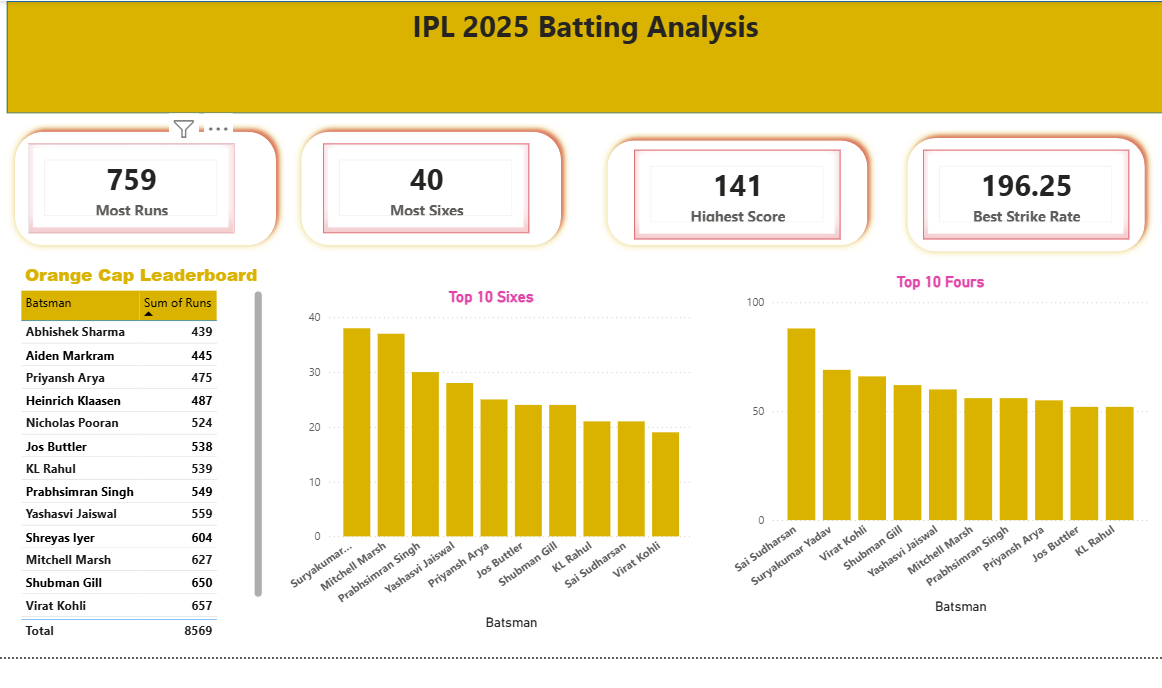

This screenshot's page, from the dashboard's own definition file:
{"tool":"powerbi","page":{"name":"Batting","canvas":[1280,720],"ordinal":1},"visuals":[{"type":"shape","box":[9.6,0,1270.7,123.5],"z":0},{"type":"textbox","box":[9.6,0,1270.7,104.3],"z":1000},{"type":"shape","box":[9.6,134.5,304.6,142.7],"z":2000},{"type":"tableEx","title":"Orange Cap Leaderboard","fields":{"Values":["ipl_2025 orange_cap.Batsman","Sum(ipl_2025 orange_cap.Runs)"]},"box":[19.2,286.8,275.8,421.3],"z":3000},{"type":"shape","box":[323.8,134.5,303.3,142.7],"z":4000},{"type":"shape","box":[660,144.1,303.3,133.1],"z":5000},{"type":"cardVisual","fields":{"Data":["ipl_2025 deliveries.Most Sixes"]},"box":[356.8,156.4,226.4,98.8],"z":6000},{"type":"cardVisual","fields":{"Data":["ipl_2025 deliveries.Highest Score"]},"box":[1007.2,163.3,226.4,98.8],"z":7000},{"type":"shape","box":[989.4,141.3,278.6,142.7],"z":8000},{"type":"cardVisual","fields":{"Data":["ipl_2025 deliveries.Most Runs"]},"box":[32.9,156.4,226.4,98.8],"z":9000},{"type":"cardVisual","fields":{"Data":["ipl_2025 deliveries.Highest Score"]},"box":[698.5,163.3,226.4,98.8],"z":10000},{"type":"cardVisual","fields":{"Data":["ipl_2025 deliveries.Best Strike Rate"]},"box":[1015.4,163.3,226.4,98.8],"z":11000},{"type":"clusteredColumnChart","title":"Top 10 Fours ","fields":{"Category":["ipl_2025 orange_cap.Batsman"],"Y":["Sum(ipl_2025 orange_cap.Fours)"]},"box":[801.4,297.8,466.6,380.1],"z":12000},{"type":"clusteredColumnChart","title":"Top 10 Sixes","fields":{"Category":["ipl_2025 orange_cap.Batsman"],"Y":["Sum(ipl_2025 orange_cap.Sixes)"]},"box":[314.2,314.2,454.2,381.5],"z":13000}]}

Visuals, with their boxes on the page's 1280x720 design canvas (x1, y1, x2, y2). These are canvas units, not pixel positions in the 1162x688 screenshot, which may show the page scaled, cropped or inside an application window:
shape: 10 0 1280 124
textbox: 10 0 1280 104
shape: 10 134 314 277
"Orange Cap Leaderboard" tableEx: 19 287 295 708
shape: 324 134 627 277
shape: 660 144 963 277
cardVisual - ipl_2025 deliveries.Most Sixes: 357 156 583 255
cardVisual - ipl_2025 deliveries.Highest Score: 1007 163 1234 262
shape: 989 141 1268 284
cardVisual - ipl_2025 deliveries.Most Runs: 33 156 259 255
cardVisual - ipl_2025 deliveries.Highest Score: 698 163 925 262
cardVisual - ipl_2025 deliveries.Best Strike Rate: 1015 163 1242 262
"Top 10 Fours " clusteredColumnChart: 801 298 1268 678
"Top 10 Sixes" clusteredColumnChart: 314 314 768 696
